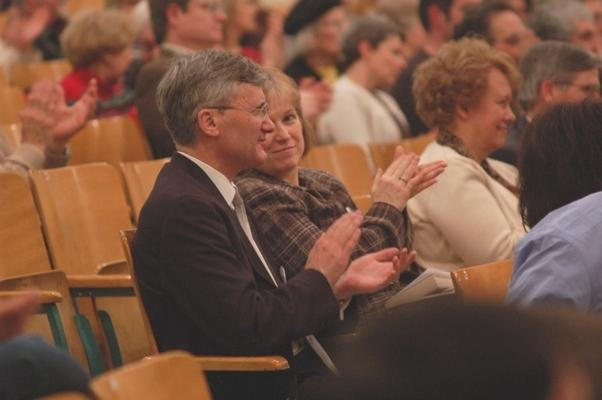person without safety: (132, 45, 281, 315), (400, 33, 532, 268)
